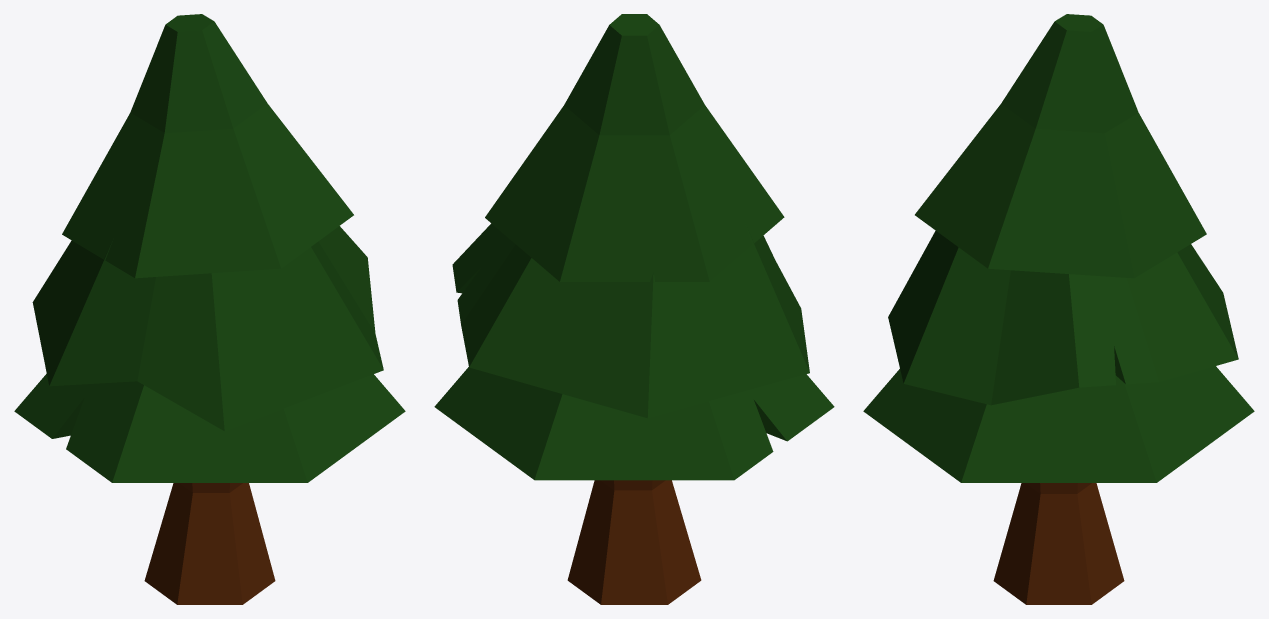
File: tree2.fbx
3 views of the same model, side by side, from view 1: azimuth 30°, elevation 25°; view 2: azimuth 150°, elevation 25°; view 3: azimuth 270°, elevation 25° (orthographic). The views are drawn at different scales.
Visible parts, largest first — view 1: Cylinder.003, Cylinder.005, Cylinder.001, Cylinder; view 2: Cylinder.005, Cylinder.003, Cylinder.001, Cylinder; view 3: Cylinder.005, Cylinder.003, Cylinder.001, Cylinder.
Boxes of the visible parts, bbox=[...] form: Cylinder.003: bbox=[32, 226, 383, 431]; Cylinder.005: bbox=[62, 14, 353, 278]; Cylinder.001: bbox=[14, 374, 405, 482]; Cylinder: bbox=[144, 483, 275, 604]; Cylinder.005: bbox=[485, 14, 784, 281]; Cylinder.003: bbox=[452, 223, 809, 418]; Cylinder.001: bbox=[434, 367, 834, 480]; Cylinder: bbox=[567, 480, 701, 604]; Cylinder.005: bbox=[915, 14, 1206, 278]; Cylinder.003: bbox=[888, 230, 1238, 405]; Cylinder.001: bbox=[863, 366, 1254, 482]; Cylinder: bbox=[993, 483, 1124, 604].
Bounding box in the file's own units: 383 × 608 × 389.
